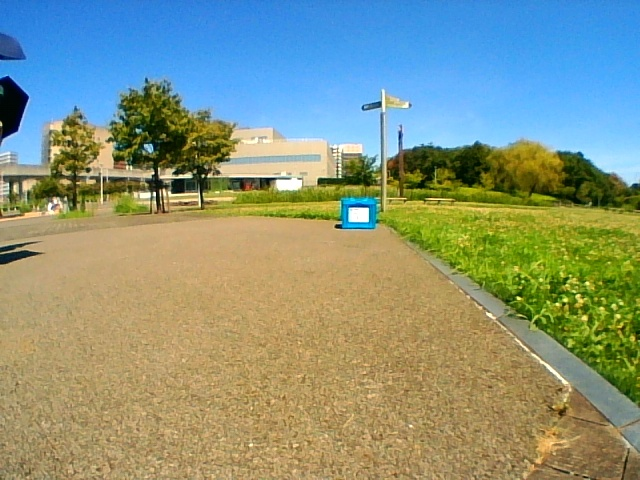blue_box: (343, 198, 374, 228)
tag: (349, 207, 368, 222)
